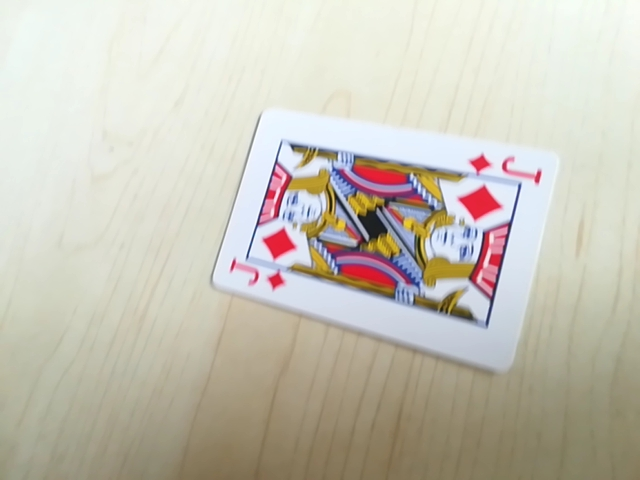fk j: (466, 149, 546, 185), (226, 257, 288, 297)
